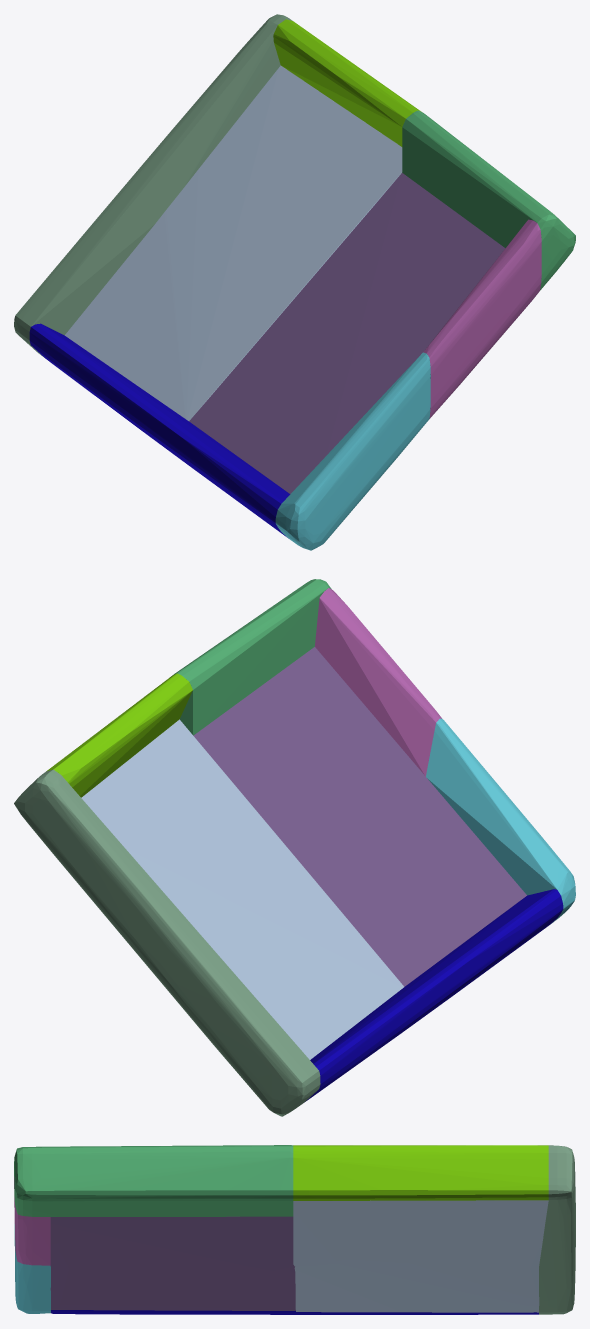
The model's file is top_cd.obj.
The picture shows the model from 3 angles, top to bottom: view 1: azimuth 30°, elevation 25°; view 2: azimuth 150°, elevation 25°; view 3: azimuth 270°, elevation 25°; orthographic projection.
Visible parts, largest first — view 1: geometry_6, geometry_1, geometry_0, geometry_2, geometry_3, geometry_5, geometry_7, geometry_4; view 2: geometry_1, geometry_6, geometry_0, geometry_5, geometry_2, geometry_3, geometry_7, geometry_4; view 3: geometry_6, geometry_1, geometry_3, geometry_4, geometry_0, geometry_5, geometry_7, geometry_2.
Boxes of the visible parts, <box> form: geometry_6: <box>65,65,402,420</box>; geometry_1: <box>189,173,505,494</box>; geometry_0: <box>14,14,292,357</box>; geometry_2: <box>275,352,430,550</box>; geometry_3: <box>402,110,575,290</box>; geometry_5: <box>29,323,289,538</box>; geometry_7: <box>423,219,541,418</box>; geometry_4: <box>273,19,421,146</box>; geometry_1: <box>193,647,526,986</box>; geometry_6: <box>81,719,403,1059</box>; geometry_0: <box>14,769,320,1116</box>; geometry_5: <box>304,889,563,1102</box>; geometry_2: <box>426,718,575,924</box>; geometry_3: <box>171,579,331,735</box>; geometry_7: <box>315,588,441,776</box>; geometry_4: <box>46,673,192,797</box>; geometry_6: <box>293,1200,548,1312</box>; geometry_1: <box>50,1216,295,1310</box>; geometry_3: <box>14,1145,293,1216</box>; geometry_4: <box>293,1145,548,1200</box>; geometry_0: <box>539,1145,575,1314</box>; geometry_5: <box>51,1310,538,1314</box>; geometry_7: <box>14,1177,50,1265</box>; geometry_2: <box>14,1224,50,1313</box>.
Bounding box in the file's own units: 206 × 193 × 345.
